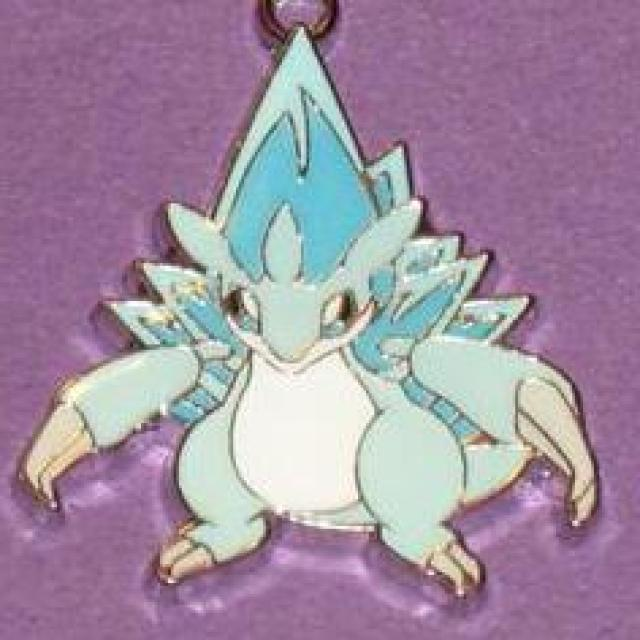Alolan: (41, 68, 565, 599)
